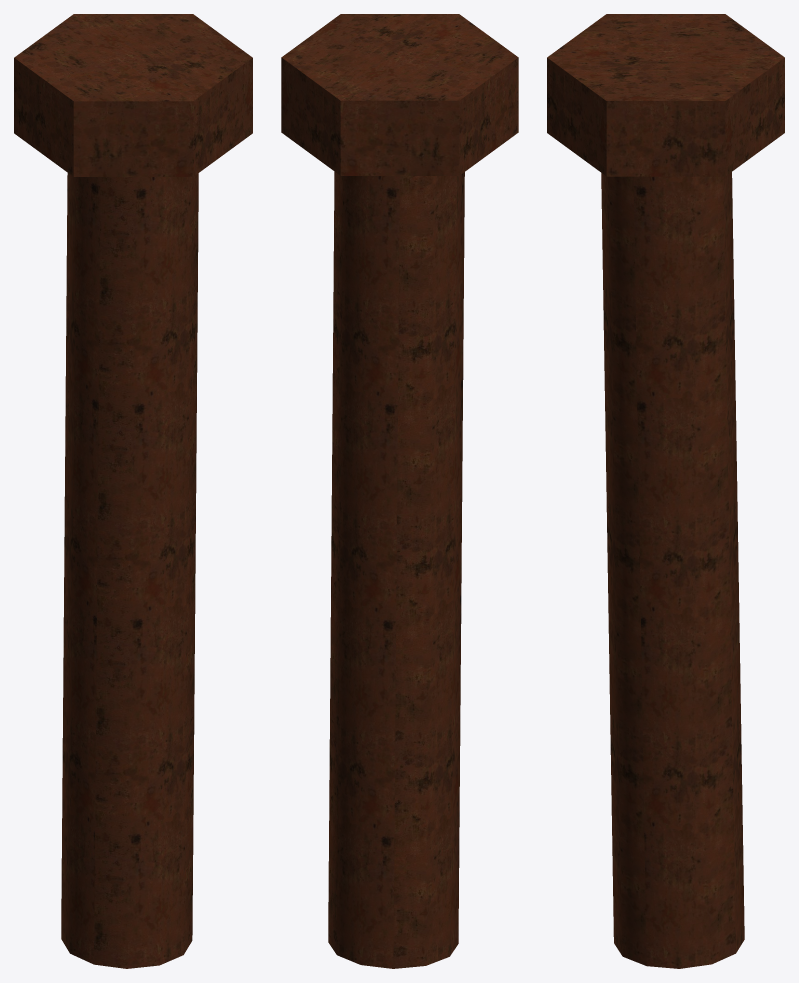
The model's file is bolt_2.glb.
3 renders of one model, left to right at view 1: azimuth 30°, elevation 25°; view 2: azimuth 150°, elevation 25°; view 3: azimuth 270°, elevation 25°, orthographic.
Visible parts, largest first — view 1: bolt_2; view 2: bolt_2; view 3: bolt_2.
Part boxes in pixels (x1,y1,x2,y2): bolt_2: (14,14,252,968); bolt_2: (281,14,518,968); bolt_2: (547,14,784,968).
Size of the model in its own units: 0.0277 by 0.1314 by 0.032.
1 material, 1 textured.
